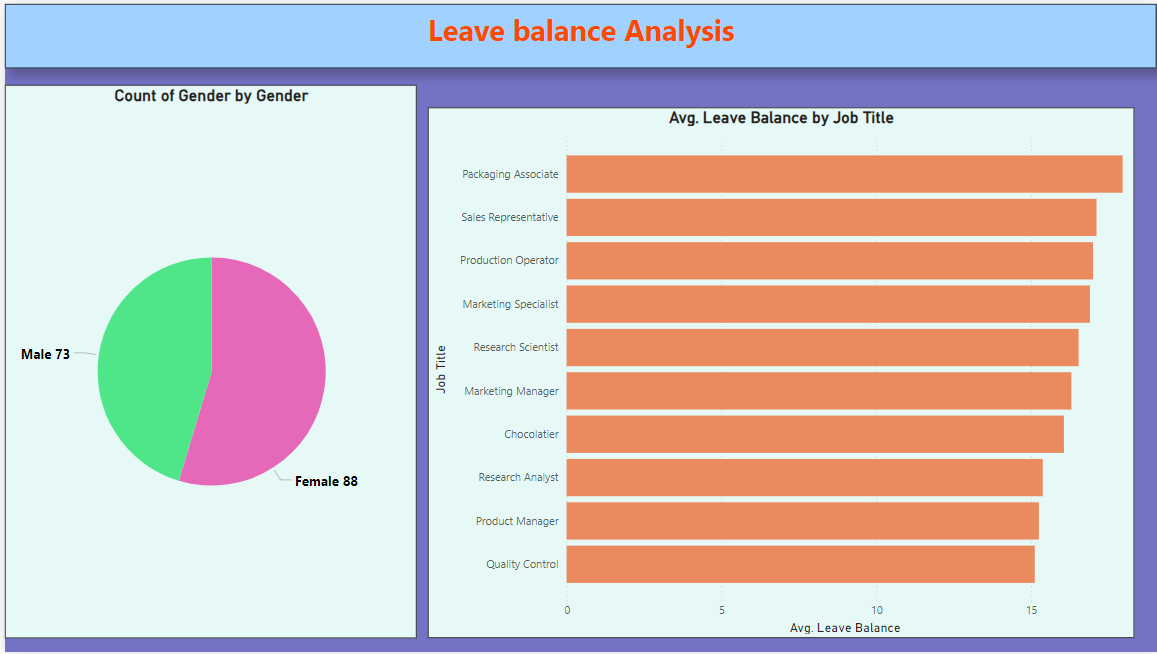

Layout of this report page (visuals, bound fields, positions):
{"tool":"powerbi","page":{"name":"Q9","canvas":[1280,720],"ordinal":9},"visuals":[{"type":"barChart","fields":{"Category":["staff.Job Title"],"Y":["staff.Avg. Leave Balance"]},"box":[469.4,115.1,784.4,589],"z":0},{"type":"pieChart","fields":{"Category":["staff.Gender"],"Y":["CountNonNull(staff.Gender)"]},"box":[0,89.3,457.3,614.8],"z":1000},{"type":"textbox","box":[0,0,1279.5,71.2],"z":2000}]}

Visuals, with their boxes in screenshot pixels (x1, y1, x2, y2), scaled from the page's 1280x720 canvas onto the 1157x654 screenshot:
barChart - staff.Job Title x staff.Avg. Leave Balance: 424/105/1133/640
pieChart - staff.Gender x CountNonNull(staff.Gender): 0/81/413/640
textbox: 0/0/1156/65
